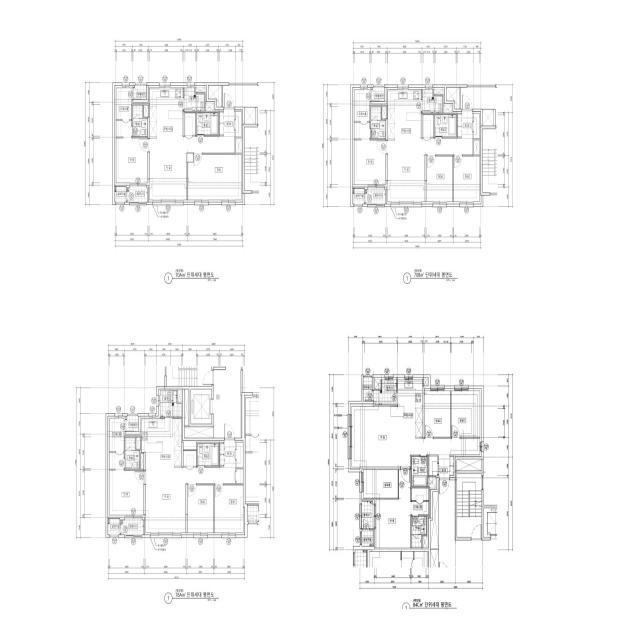space_balconi: (374, 380, 397, 405), (160, 391, 181, 417), (422, 90, 443, 113), (184, 88, 204, 111), (121, 518, 144, 535), (365, 188, 386, 204), (362, 501, 374, 529), (127, 186, 147, 202)
space_bedroom: (376, 470, 410, 548), (188, 154, 241, 200), (109, 470, 144, 515), (116, 138, 148, 183), (354, 140, 386, 185), (215, 485, 243, 533), (451, 391, 480, 437), (188, 485, 213, 533), (427, 156, 453, 202), (425, 391, 450, 437), (454, 156, 479, 202)
space_dressroom: (354, 90, 370, 139), (116, 88, 132, 137), (109, 418, 124, 469), (411, 488, 429, 515)
space_elevator: (191, 389, 212, 424)
space_elevator_hall: (214, 370, 241, 438)
space_front: (219, 109, 241, 137), (457, 110, 473, 138), (220, 439, 235, 467), (439, 455, 454, 478)
space_kitchen: (141, 418, 181, 466), (150, 88, 183, 137), (388, 90, 421, 139), (398, 380, 423, 437)
space_living_room: (352, 406, 480, 467), (146, 466, 235, 533), (388, 138, 473, 202), (150, 137, 235, 200)
space_multipurpose_space: (364, 470, 398, 498)
space_other: (430, 492, 439, 549), (184, 427, 213, 438), (457, 459, 482, 471), (208, 86, 222, 107), (446, 88, 460, 109), (423, 115, 434, 137), (185, 113, 196, 135), (125, 416, 138, 432), (363, 378, 372, 401), (371, 87, 385, 101), (183, 451, 196, 466), (236, 442, 243, 468), (184, 389, 189, 425), (483, 109, 493, 126), (133, 86, 146, 99), (429, 456, 437, 476), (245, 108, 255, 124), (474, 114, 479, 139), (236, 469, 243, 484), (236, 138, 242, 153), (428, 477, 436, 488), (474, 140, 479, 155), (443, 105, 452, 113), (205, 103, 214, 111), (382, 107, 387, 119), (434, 89, 443, 95), (375, 380, 381, 389), (144, 105, 148, 117), (423, 536, 427, 548), (136, 437, 140, 449), (196, 88, 205, 93), (141, 454, 144, 469), (178, 391, 182, 402), (424, 379, 427, 386)
space_outdoor_room: (108, 519, 120, 535), (115, 186, 126, 202), (353, 188, 364, 204), (362, 530, 373, 546)
space_staircase: (457, 474, 482, 537)
space_toilet: (197, 444, 219, 466), (411, 516, 426, 548), (125, 437, 140, 469), (371, 107, 386, 139), (133, 105, 148, 137), (412, 456, 427, 487), (435, 115, 456, 137), (197, 113, 218, 135)
